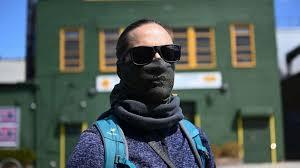scarf-kerchief: (111, 59, 186, 110)
sunglasses: (125, 42, 188, 69)
